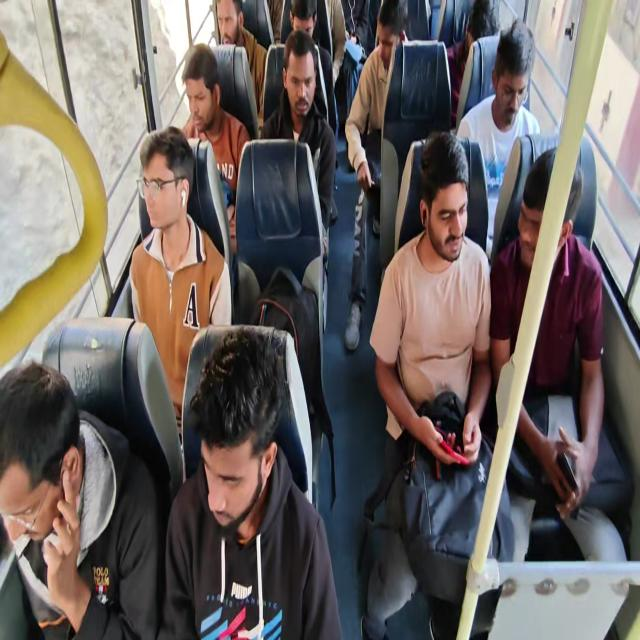person: (192, 336, 266, 530), (4, 380, 85, 537), (408, 141, 472, 283), (129, 138, 186, 237), (494, 31, 538, 137), (518, 159, 562, 263), (285, 37, 320, 109), (376, 8, 412, 72), (183, 59, 213, 131), (464, 0, 497, 57), (281, 3, 318, 52), (204, 0, 240, 42)
